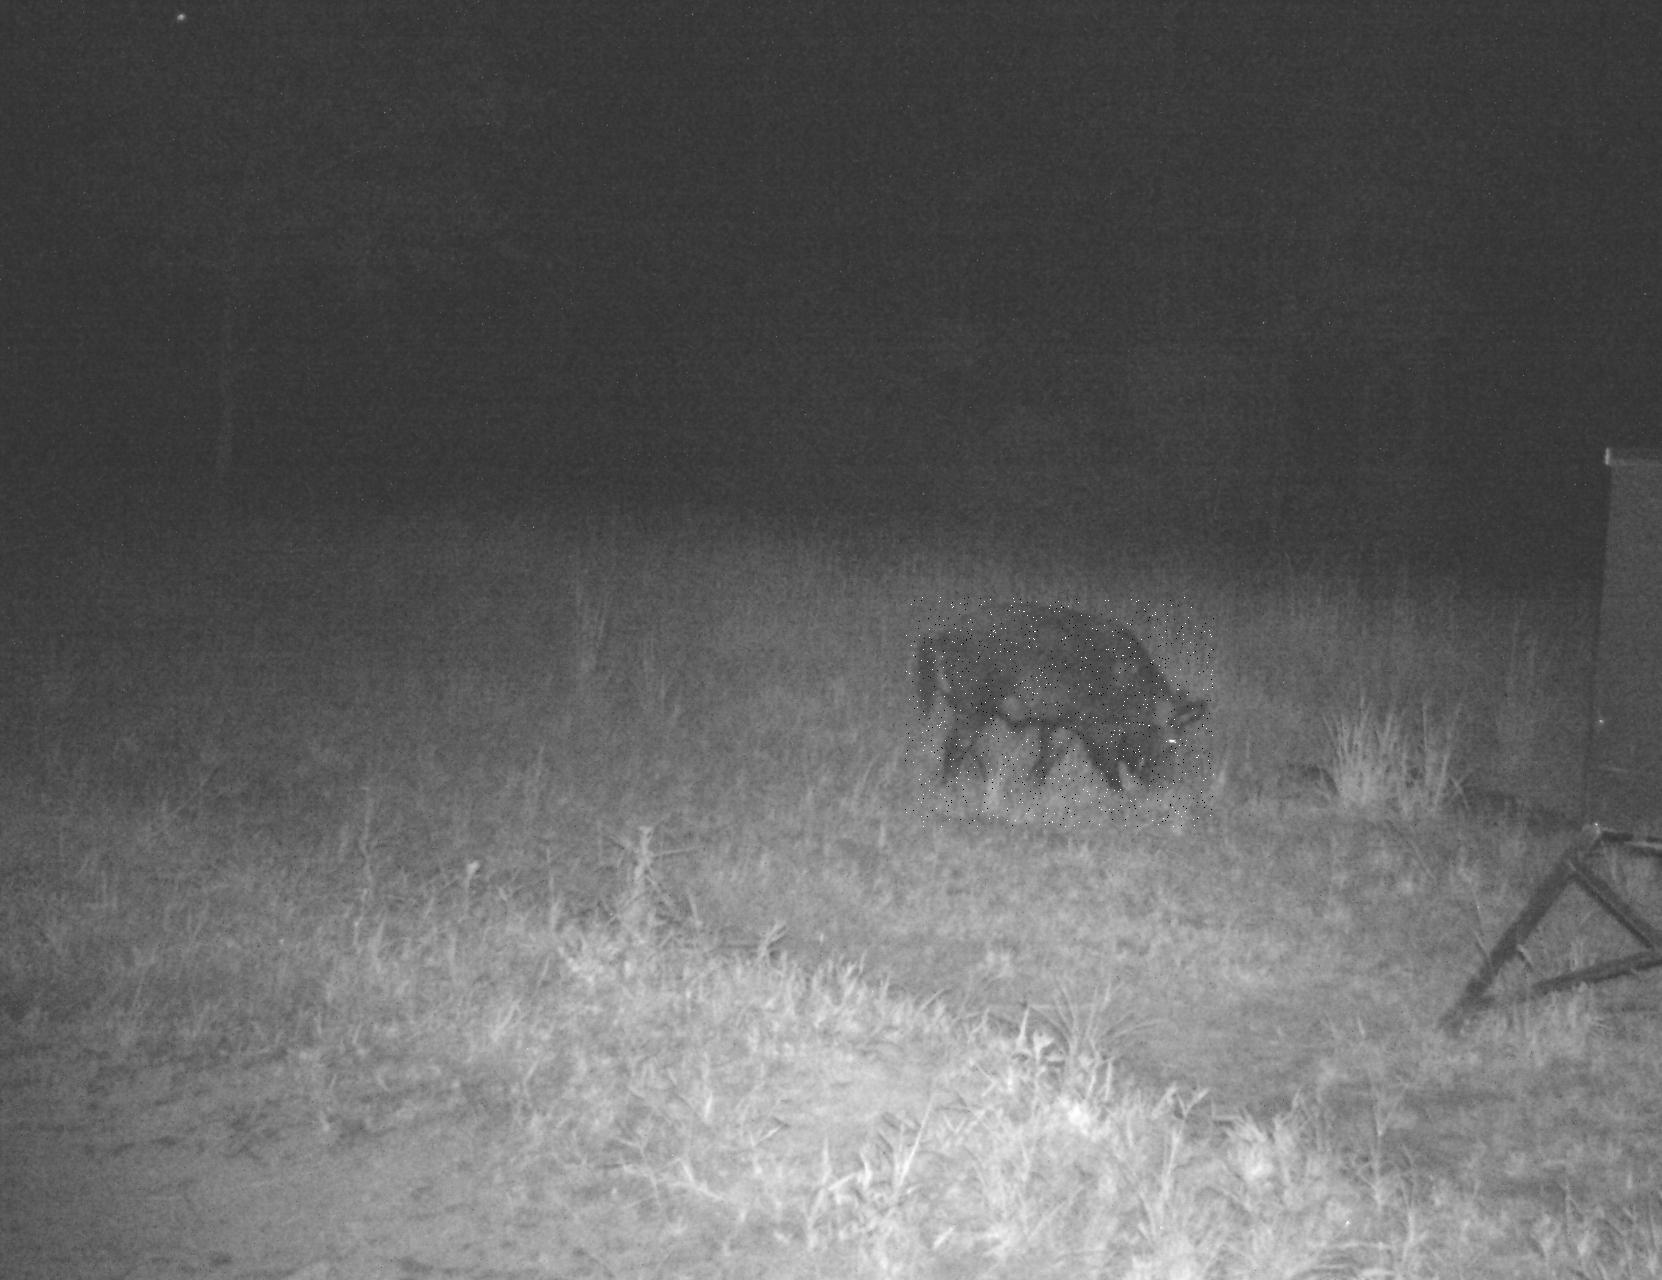Hog: (904, 597, 1214, 827)
